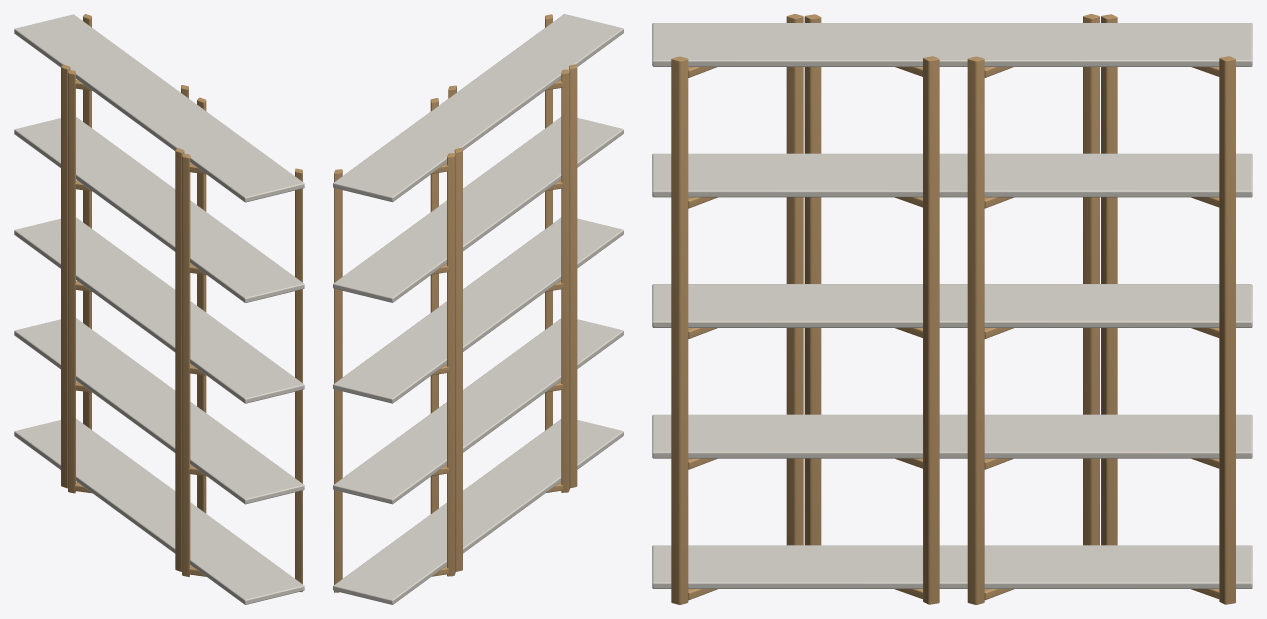
Rendered from estante-freisa.glb.
The picture shows the model from 3 angles, left to right: view 1: azimuth 30°, elevation 25°; view 2: azimuth 150°, elevation 25°; view 3: azimuth 270°, elevation 25°; orthographic projection. The views are drawn at different scales.
Visible parts, largest first — view 1: Estante Marselha, Componente#1 (×7); view 2: Estante Marselha, Componente#1 (×7); view 3: Estante Marselha, Componente#1 (×8).
Part boxes in pixels (<box>): Estante Marselha: <box>14,14,304,604</box>; Componente#1 (×7): <box>61,14,302,592</box>; Estante Marselha: <box>333,14,623,604</box>; Componente#1 (×7): <box>334,14,577,592</box>; Estante Marselha: <box>652,23,1252,588</box>; Componente#1 (×8): <box>671,14,1235,604</box>.
Bounding box in the file's own units: 0.3794 × 2 × 2.
